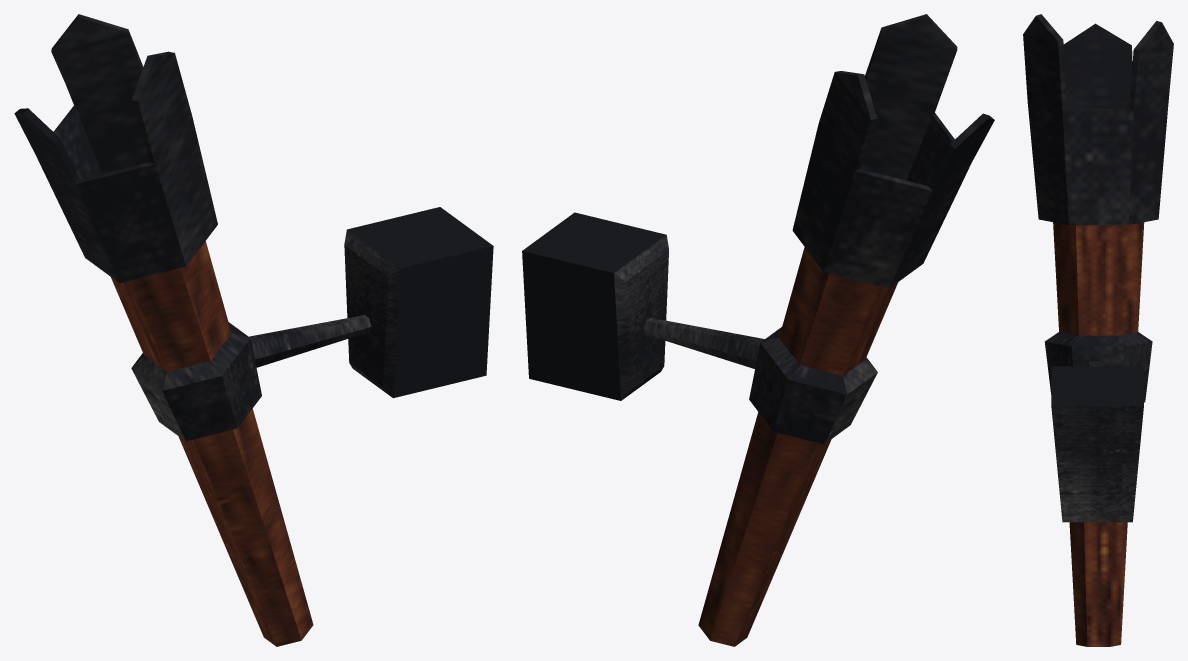
The model's file is torch.obj.
The picture shows the model from 3 angles, left to right: view 1: azimuth 30°, elevation 25°; view 2: azimuth 150°, elevation 25°; view 3: azimuth 270°, elevation 25°; orthographic projection. The views are drawn at different scales.
Parts seen in each view (by area): view 1: Cylinder, Handle, Plane, Cylinder.001, Handle.001; view 2: Cylinder, Handle, Plane, Cylinder.001, Handle.001; view 3: Cylinder, Handle, Plane, Cylinder.001.
Part boxes in pixels (<box>): Cylinder: <box>14,14,217,283</box>; Handle: <box>111,241,313,646</box>; Plane: <box>344,207,493,398</box>; Cylinder.001: <box>131,322,261,441</box>; Handle.001: <box>249,315,371,367</box>; Cylinder: <box>792,14,994,288</box>; Handle: <box>698,247,897,646</box>; Plane: <box>522,212,668,400</box>; Cylinder.001: <box>749,327,877,444</box>; Handle.001: <box>644,317,764,368</box>; Cylinder: <box>1023,14,1173,225</box>; Handle: <box>1053,222,1144,646</box>; Plane: <box>1051,366,1143,522</box>; Cylinder.001: <box>1044,332,1152,402</box>.
Size of the model in its own units: 0.3094 by 0.4309 by 0.1047.
2 materials, 2 textured.
